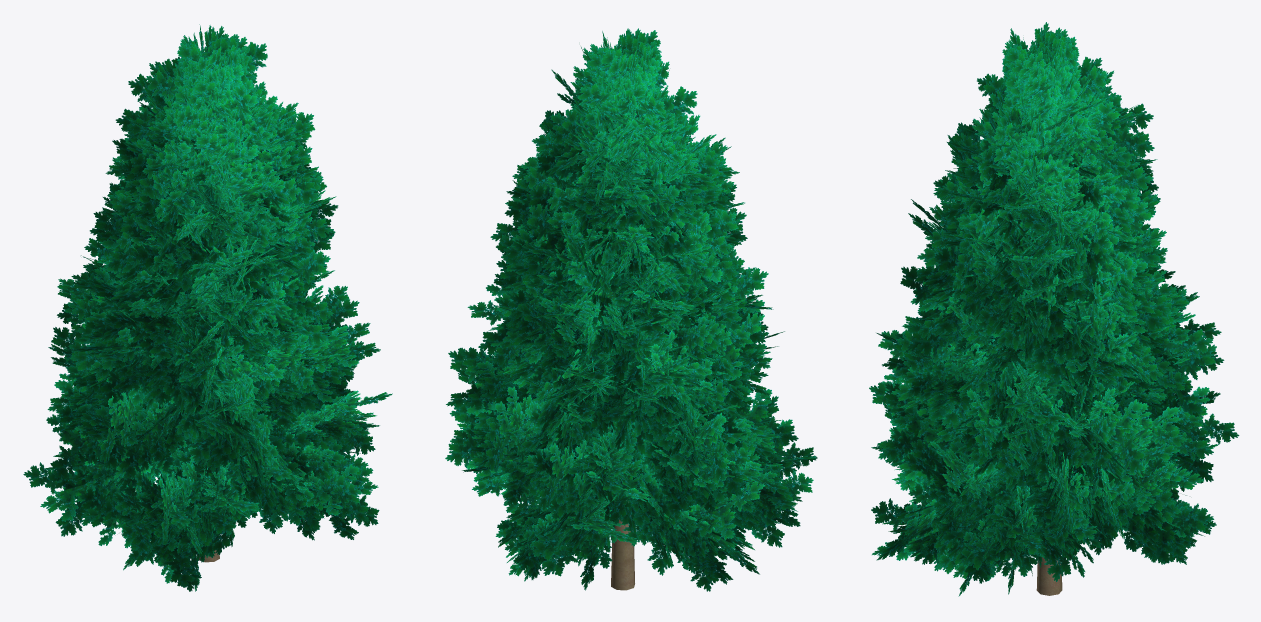
Rendered from tree_LOD0.gltf.
3 views of the same model, side by side, from view 1: azimuth 30°, elevation 25°; view 2: azimuth 150°, elevation 25°; view 3: azimuth 270°, elevation 25° (orthographic). The views are drawn at different scales.
Visible parts, largest first — view 1: Leaves_LOD0; view 2: Leaves_LOD0, Branches_LOD0; view 3: Leaves_LOD0, Branches_LOD0.
Part boxes in pixels (left/top/right/bottom): Leaves_LOD0: left=23, top=24, right=392, bottom=591; Leaves_LOD0: left=445, top=28, right=817, bottom=591; Branches_LOD0: left=611, top=500, right=634, bottom=590; Leaves_LOD0: left=869, top=22, right=1239, bottom=596; Branches_LOD0: left=1036, top=547, right=1062, bottom=595.
Size of the model in its own units: 39.61 by 60.9 by 39.22.
Materials: 2 (2 with a texture image).
